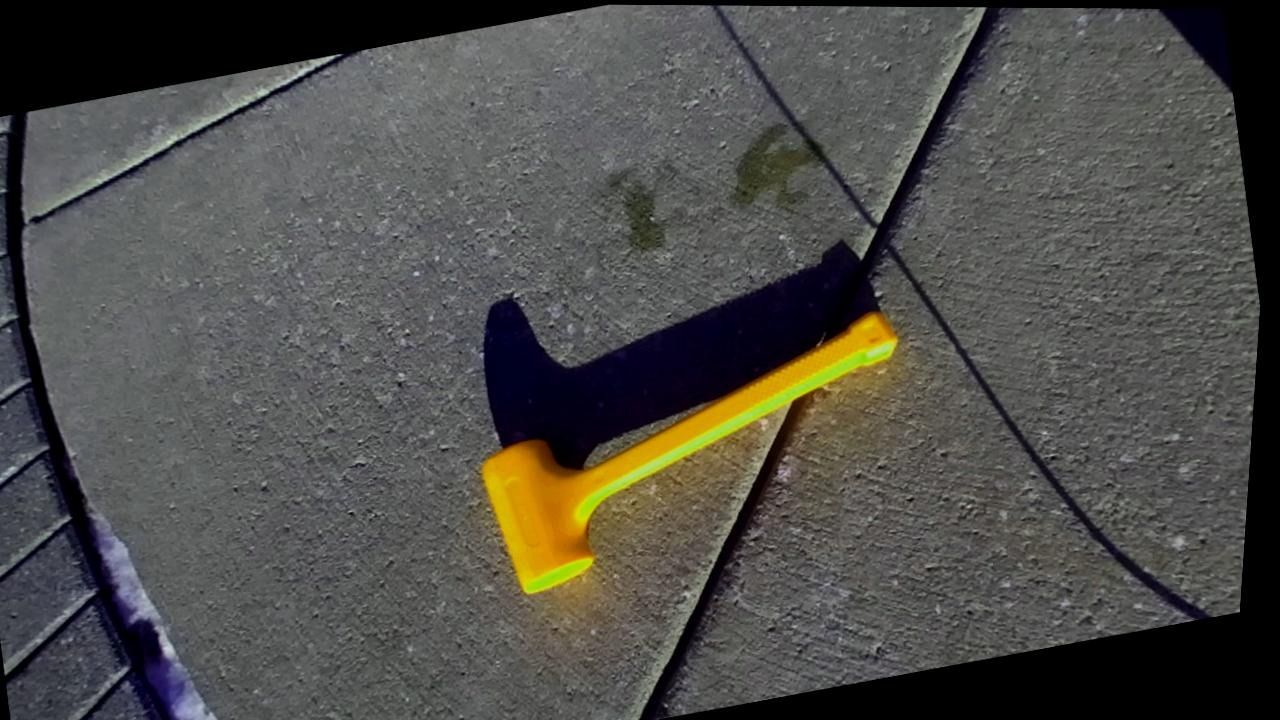mallet: (483, 311, 895, 592)
